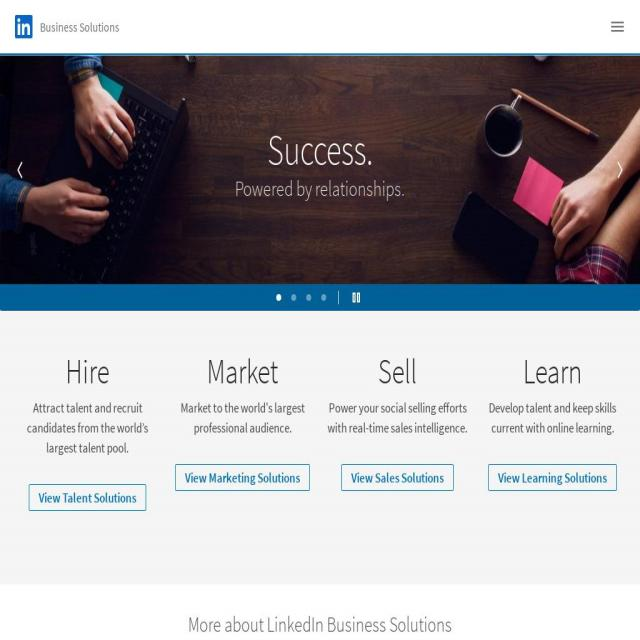navigation-blocks: (25, 345, 640, 555)
options: (605, 10, 630, 45)
